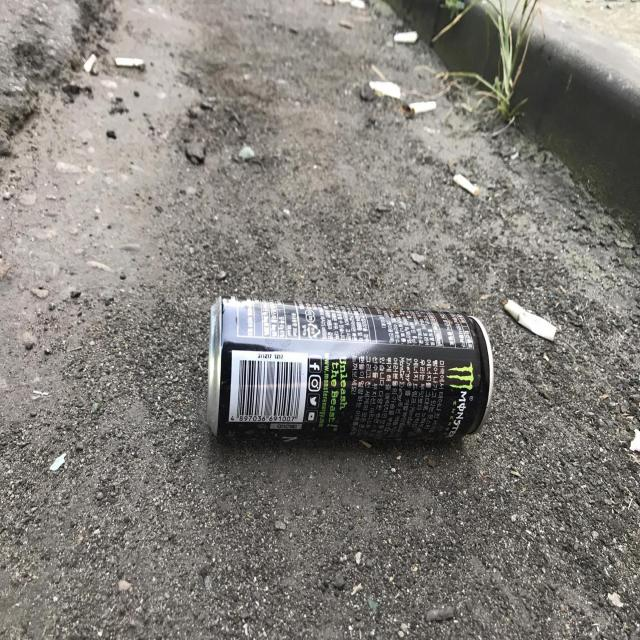can: (207, 298, 495, 441)
